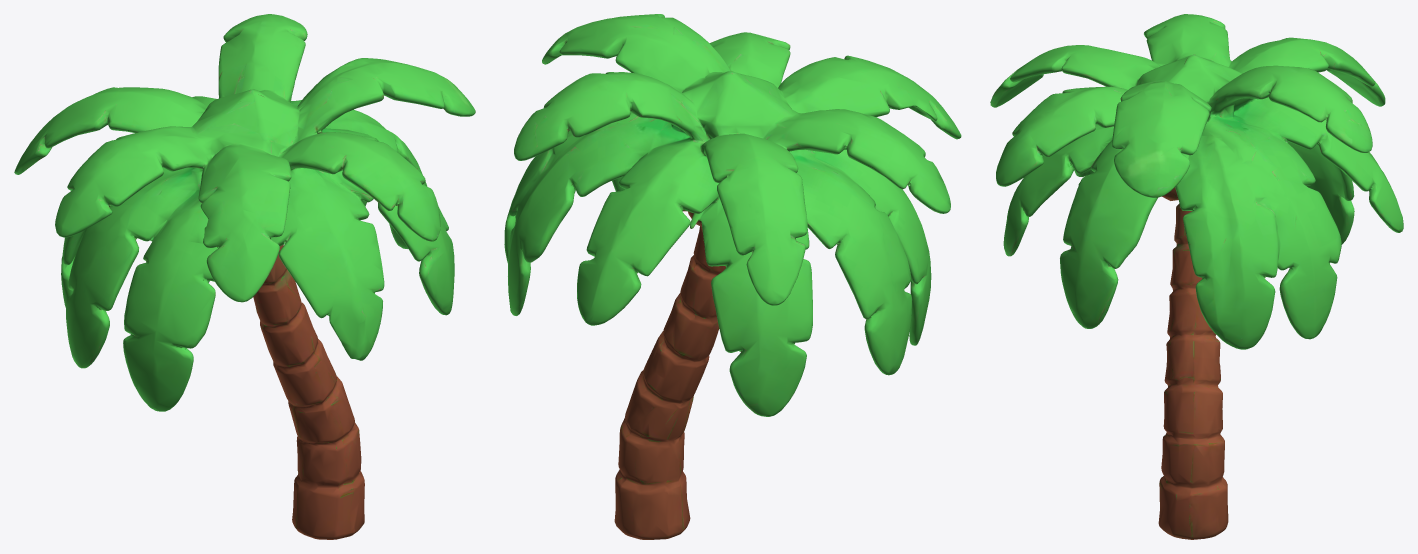
The model's file is palm.glb.
3 renders of one model, left to right at view 1: azimuth 30°, elevation 25°; view 2: azimuth 150°, elevation 25°; view 3: azimuth 270°, elevation 25°, orthographic. The views are drawn at different scales.
Parts seen in each view (by area): view 1: Mesh_0; view 2: Mesh_0; view 3: Mesh_0.
Part boxes in pixels (x1,y1,x2,y2): Mesh_0: (14, 14, 475, 539); Mesh_0: (504, 14, 961, 539); Mesh_0: (990, 14, 1403, 539).
Size of the model in its own units: 1.7 by 1.91 by 1.58.
1 material, 1 textured.
